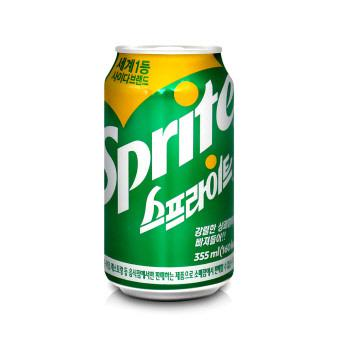sprite: (95, 44, 242, 309)
